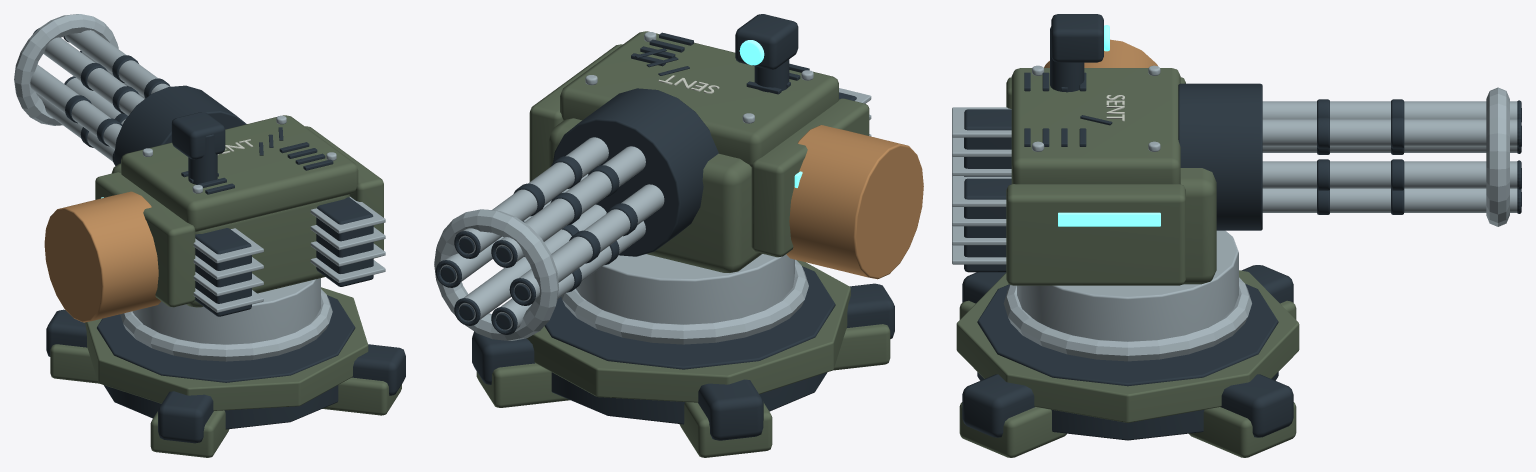
The model's file is 05_assault_reaper.glb.
3 renders of one model, left to right at view 1: azimuth 30°, elevation 25°; view 2: azimuth 150°, elevation 25°; view 3: azimuth 270°, elevation 25°, orthographic. The views are drawn at different scales.
Parts seen in each view (by area): view 1: Armored cradle, Recessed bearing, Armored footing, Cooling vent, Ammo drum, Barrel jacket, Bearing, Rivet, Muzzle rim; view 2: Armored cradle, Barrel jacket, Recessed bearing, Armored footing, Cooling vent, Bearing, Ammo drum, Muzzle rim, Rivet, Identification strip; view 3: Armored cradle, Barrel jacket, Recessed bearing, Cooling vent, Armored footing, Bearing, Rivet, Muzzle rim, Identification strip, Ammo drum.
Boxes of the visible parts, x1,y1,x2,y2 form: Armored cradle: [95, 115, 383, 307]; Recessed bearing: [46, 295, 405, 443]; Armored footing: [50, 287, 401, 457]; Cooling vent: [114, 85, 373, 316]; Ammo drum: [44, 191, 161, 322]; Barrel jacket: [14, 14, 169, 161]; Bearing: [120, 278, 332, 361]; Rivet: [142, 115, 385, 312]; Muzzle rim: [33, 28, 170, 164]; Armored cradle: [529, 31, 869, 272]; Barrel jacket: [434, 137, 664, 340]; Recessed bearing: [472, 266, 894, 440]; Armored footing: [476, 260, 890, 457]; Cooling vent: [553, 14, 856, 256]; Bearing: [561, 254, 808, 344]; Ammo drum: [786, 125, 923, 279]; Muzzle rim: [435, 156, 637, 334]; Rivet: [585, 32, 871, 136]; Identification strip: [739, 40, 802, 187]; Armored cradle: [1006, 68, 1216, 285]; Barrel jacket: [1262, 87, 1517, 226]; Recessed bearing: [962, 265, 1293, 440]; Cooling vent: [964, 14, 1262, 272]; Armored footing: [956, 270, 1299, 457]; Bearing: [1003, 230, 1251, 361]; Rivet: [952, 65, 1160, 264]; Muzzle rim: [1317, 99, 1521, 214]; Identification strip: [1058, 25, 1160, 226]; Ammo drum: [1044, 39, 1157, 67].
Bounding box in the file's own units: 1.48 × 1.42 × 2.15.
